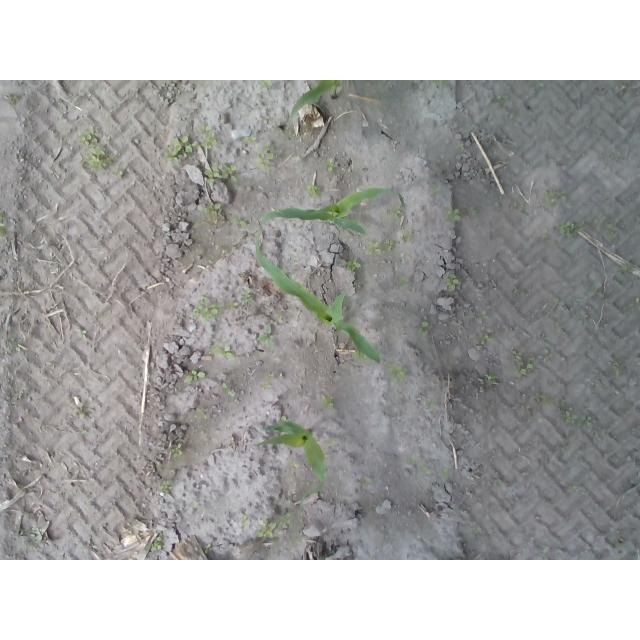Maize: (254, 240, 382, 365), (232, 183, 397, 237), (255, 418, 328, 506), (282, 80, 343, 124)
Weeds: (167, 134, 194, 162), (196, 201, 227, 225), (204, 162, 239, 183), (81, 149, 112, 171), (193, 296, 219, 321), (199, 124, 218, 149), (514, 354, 535, 375), (543, 190, 569, 206), (368, 240, 396, 254), (258, 325, 275, 348), (565, 411, 592, 425), (183, 368, 206, 384), (559, 220, 577, 240), (81, 128, 100, 145), (213, 345, 235, 359), (256, 152, 274, 168), (430, 184, 448, 199), (447, 206, 462, 222), (392, 365, 409, 379), (257, 526, 275, 539), (479, 336, 497, 349), (241, 288, 255, 304), (417, 320, 429, 337), (1, 210, 8, 238), (485, 371, 499, 385), (150, 537, 163, 552), (309, 182, 324, 195), (192, 408, 209, 419), (445, 276, 460, 288), (278, 512, 293, 524), (232, 217, 249, 227), (170, 446, 184, 458), (222, 382, 234, 395), (478, 310, 491, 322), (227, 302, 241, 313), (259, 381, 273, 392), (258, 80, 274, 89), (348, 261, 361, 272), (160, 483, 173, 493), (323, 398, 335, 408), (391, 205, 401, 216), (327, 159, 336, 171), (246, 134, 259, 142), (400, 277, 409, 288), (408, 455, 417, 465), (442, 469, 449, 480)
